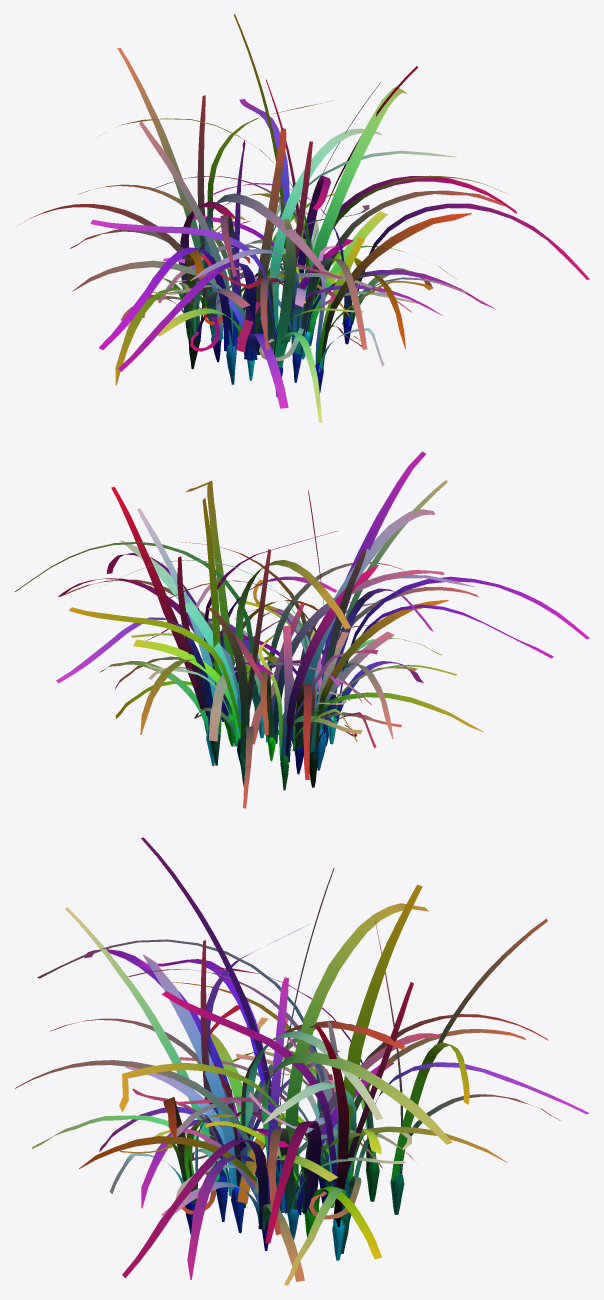
Rendered from Ribbon_Grass_tbdpec3r_High_tbdpec3r_VarC_LOD0.fbx.
3 views of the same model, one above another, from view 1: azimuth 30°, elevation 25°; view 2: azimuth 150°, elevation 25°; view 3: azimuth 270°, elevation 25° (orthographic). The views are drawn at different scales.
Visible parts, largest first — view 1: _3cd0_VarC_LOD0; view 2: _3cd0_VarC_LOD0; view 3: _3cd0_VarC_LOD0.
Boxes of the visible parts, x1,y1,x2,y2 form: _3cd0_VarC_LOD0: (17,14,589,422); _3cd0_VarC_LOD0: (14,451,589,808); _3cd0_VarC_LOD0: (15,837,589,1285).
Bounding box in the file's own units: 60.42 × 37.33 × 53.45.
